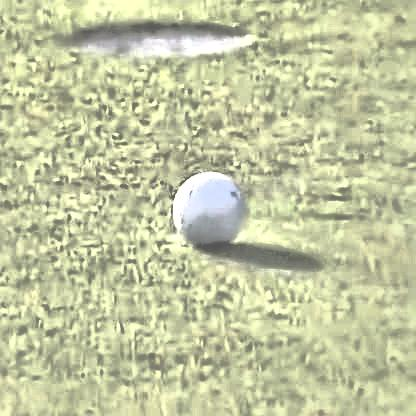golfball: (170, 167, 244, 243)
